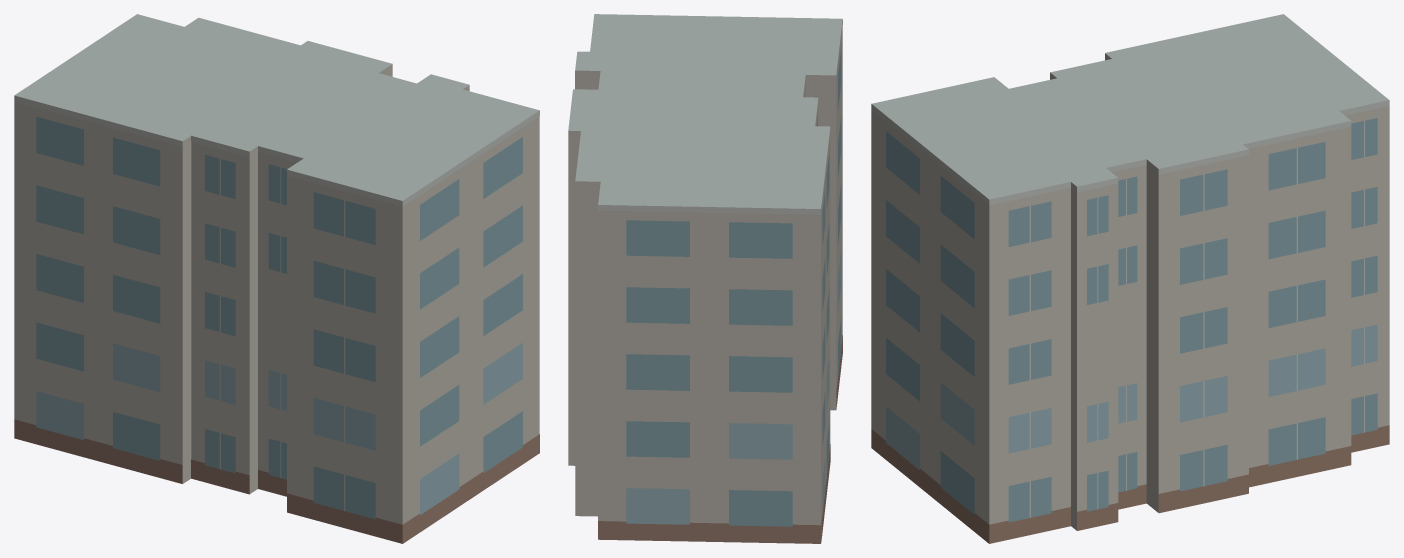
The model's file is survey-upis-33040986.glb.
3 renders of one model, left to right at view 1: azimuth 30°, elevation 25°; view 2: azimuth 150°, elevation 25°; view 3: azimuth 270°, elevation 25°, orthographic. The views are drawn at different scales.
Parts seen in each view (by area): view 1: survey-upis-33040986.tmp; view 2: survey-upis-33040986.tmp; view 3: survey-upis-33040986.tmp.
Part boxes in pixels (x1,y1,x2,y2): survey-upis-33040986.tmp: (14, 14, 539, 543); survey-upis-33040986.tmp: (568, 14, 842, 543); survey-upis-33040986.tmp: (871, 14, 1389, 543).
Size of the model in its own units: 16.78 by 14.5 by 19.79.
